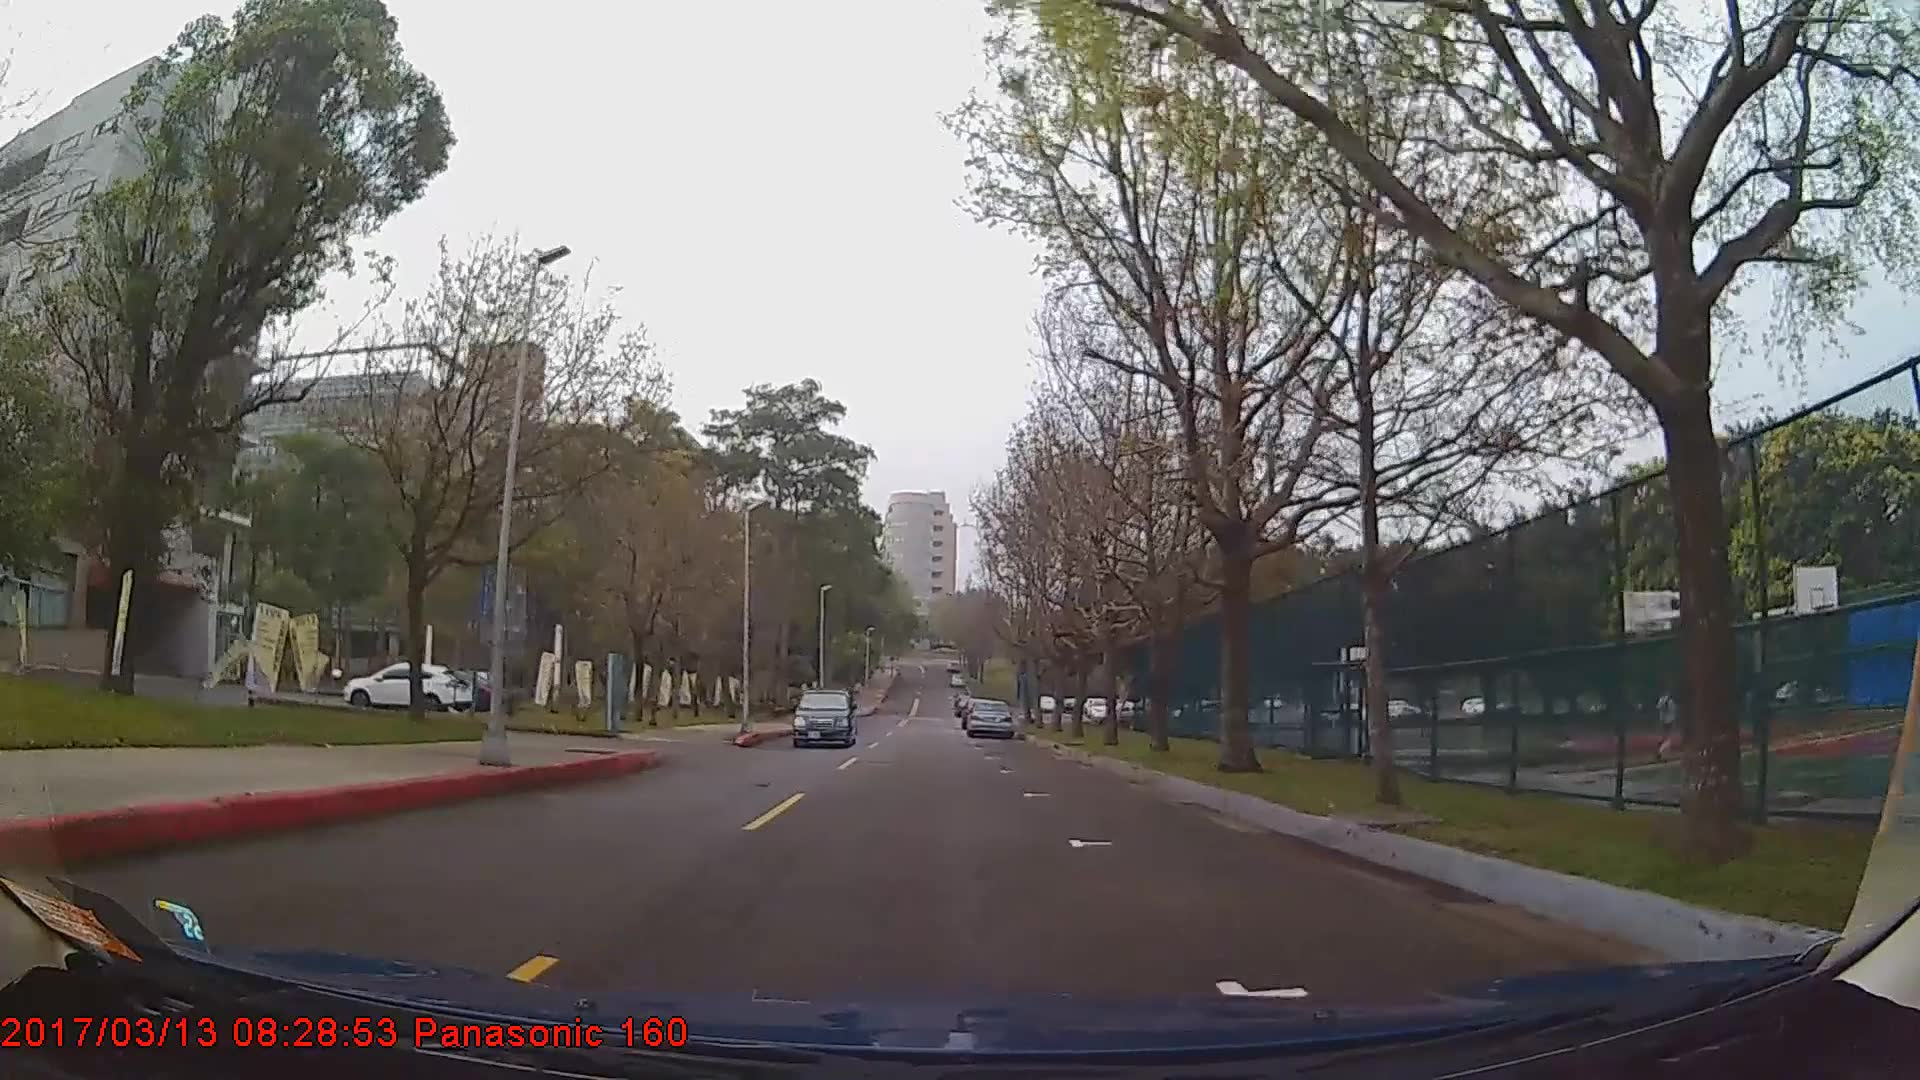vehicle: (345, 661, 472, 717), (789, 691, 855, 750), (965, 699, 1011, 741)
